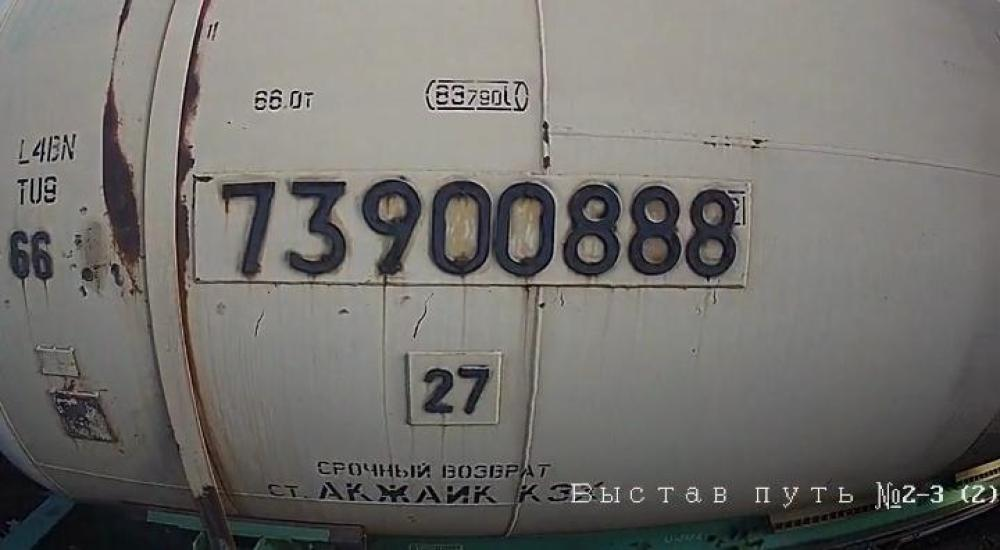Wagon-number: (210, 173, 742, 287)
